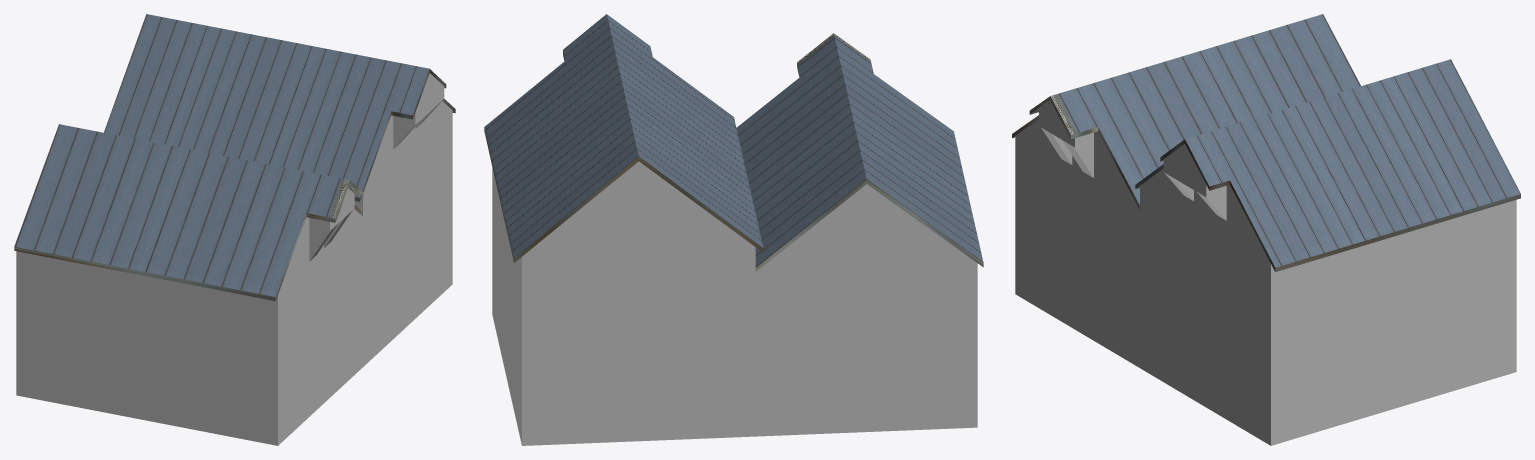
The model's file is SM_GenericBuilding_13.fbx.
The picture shows the model from 3 angles, left to right: view 1: azimuth 30°, elevation 25°; view 2: azimuth 150°, elevation 25°; view 3: azimuth 270°, elevation 25°; orthographic projection. The views are drawn at different scales.
Visible parts, largest first — view 1: SM_GenericBuilding_13; view 2: SM_GenericBuilding_13; view 3: SM_GenericBuilding_13.
Boxes of the visible parts, x1,y1,x2,y2 form: SM_GenericBuilding_13: [14, 14, 455, 445]; SM_GenericBuilding_13: [484, 14, 983, 445]; SM_GenericBuilding_13: [1012, 14, 1520, 445].
Size of the model in its own units: 854 by 474 by 798.
